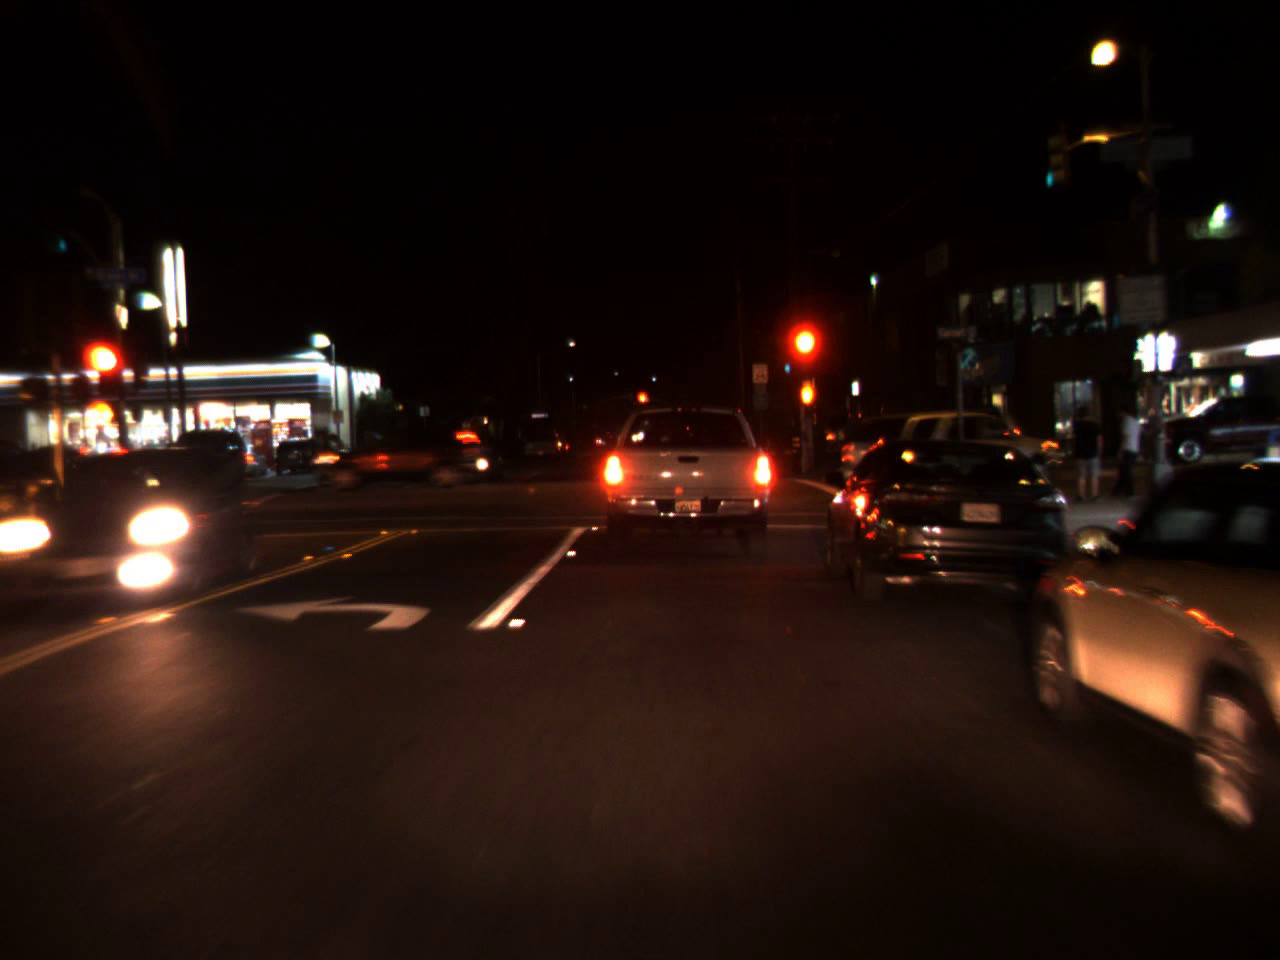stop: (84, 337, 127, 415), (788, 327, 818, 383), (635, 389, 650, 416)
